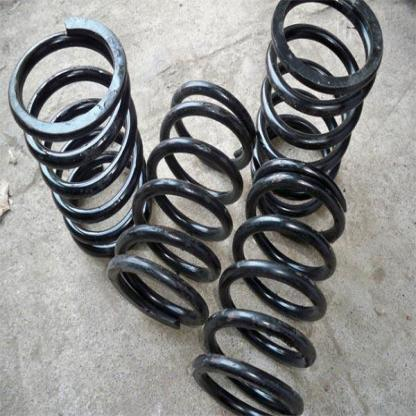FOD: (190, 156, 350, 415), (104, 78, 258, 334), (6, 14, 153, 257), (250, 0, 384, 218)
